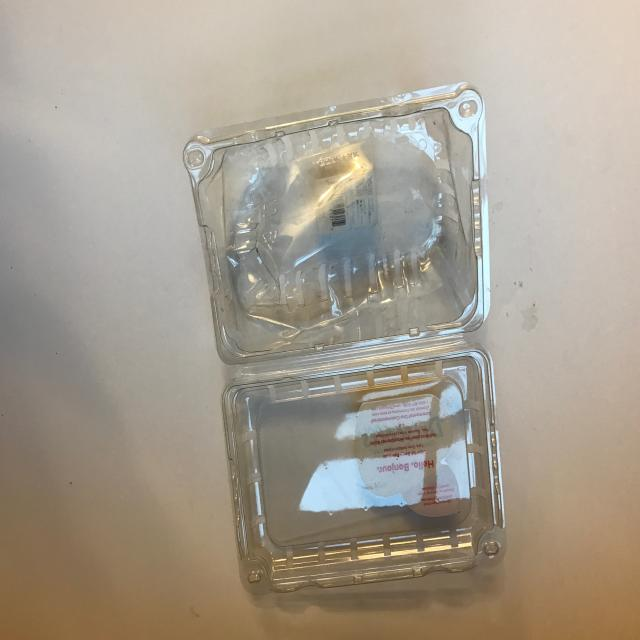plastic: (145, 50, 591, 635)
